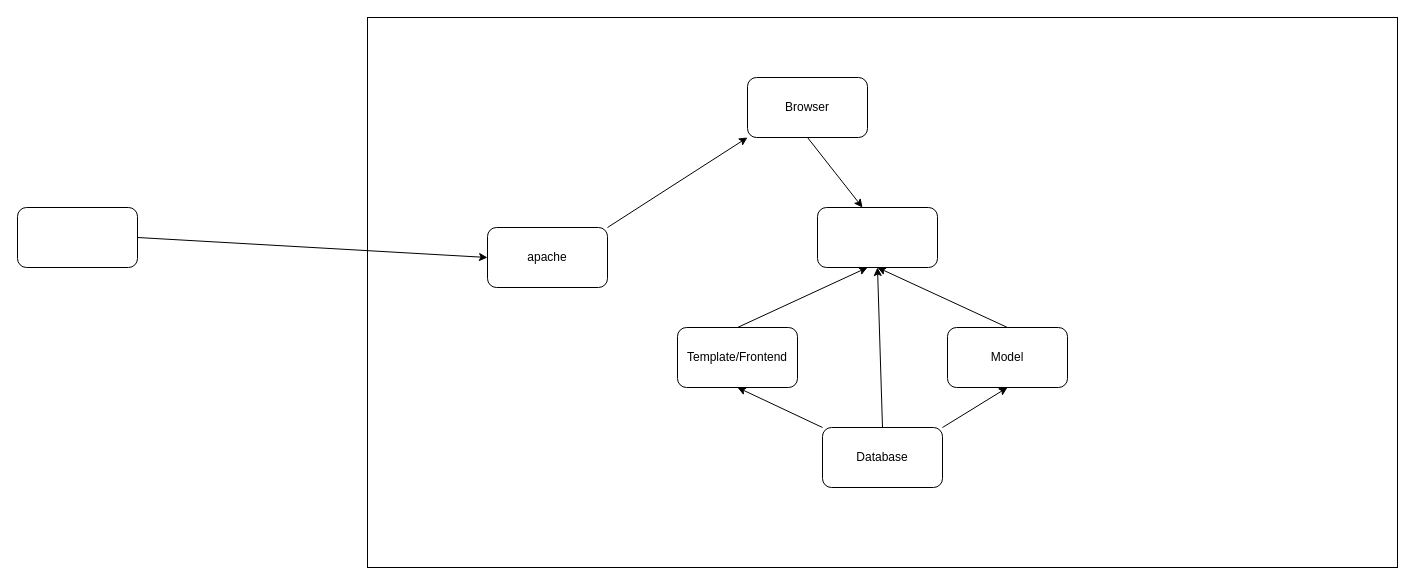
Some shapes in this 1415 by 585 pixel diagram are drawn without their labels. Each missing label, with the centre of its shape:
"User" belongs at pixel 77 237.
"Viewer/Controller" belongs at pixel 877 237.
